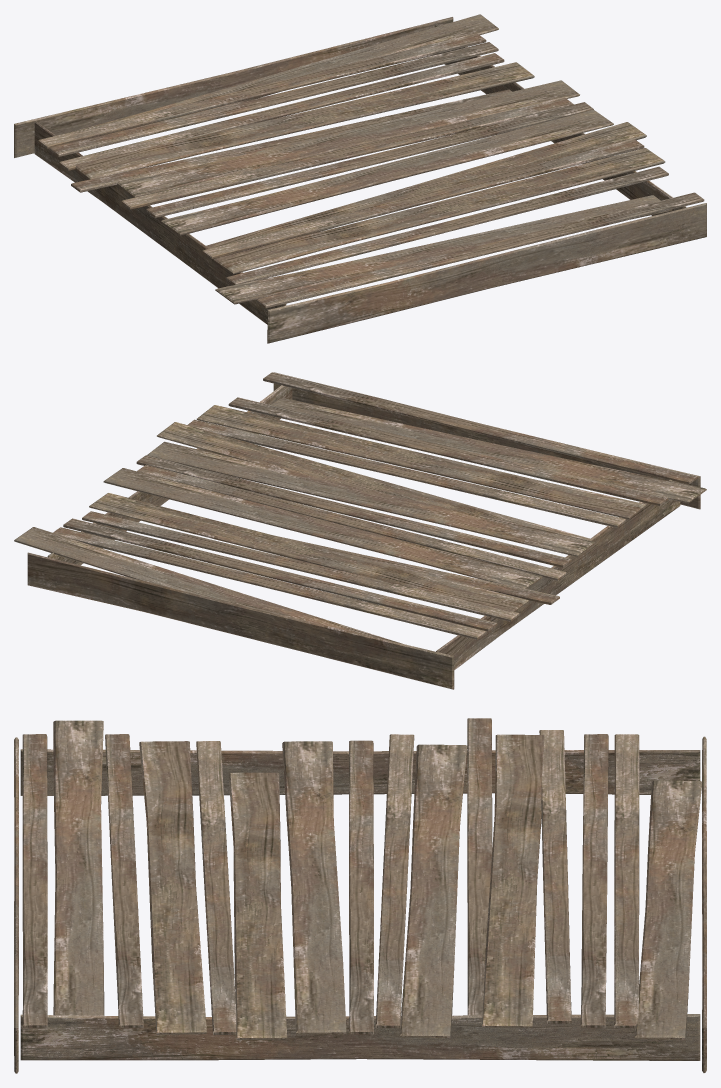
File: SM_Gangway_03.fbx
The picture shows the model from 3 angles, top to bottom: view 1: azimuth 30°, elevation 25°; view 2: azimuth 150°, elevation 25°; view 3: azimuth 270°, elevation 25°; orthographic projection. The views are drawn at different scales.
Parts seen in each view (by area): view 1: SM_Gangway_03_LOD0; view 2: SM_Gangway_03_LOD0; view 3: SM_Gangway_03_LOD0.
Part boxes in pixels (x1,y1,x2,y2): SM_Gangway_03_LOD0: (14,14,706,343); SM_Gangway_03_LOD0: (14,372,706,689); SM_Gangway_03_LOD0: (14,718,706,1073).
Size of the model in its own units: 439 by 403 by 33.05.
Materials: 2 (2 with a texture image).
